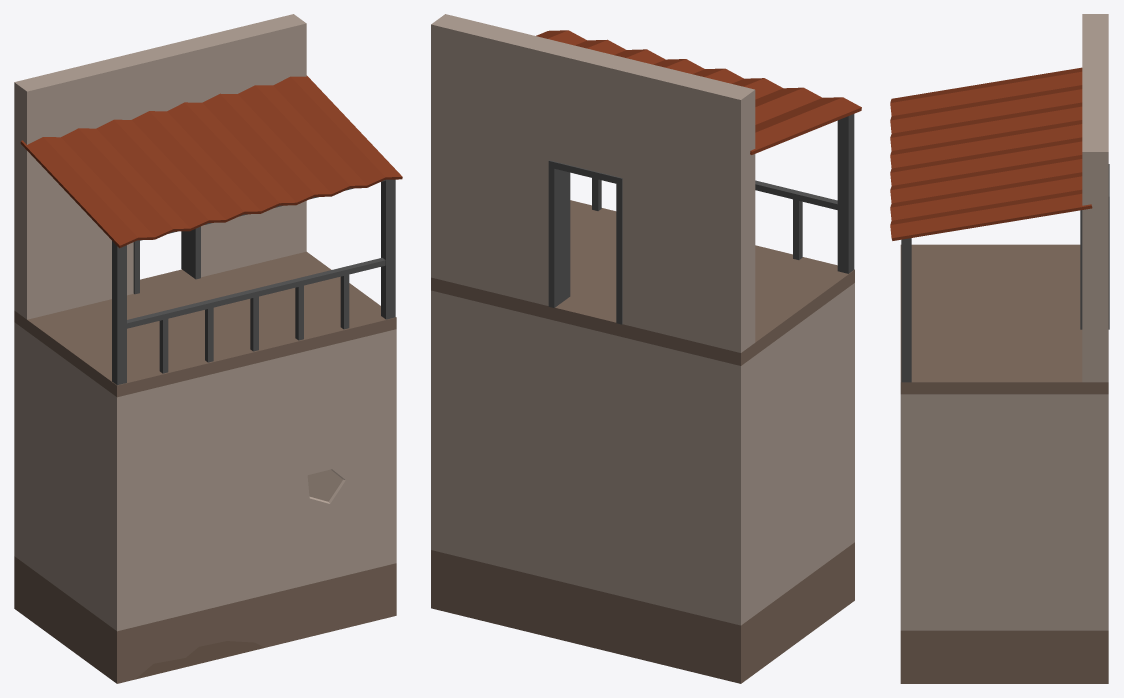
File: Wall2_10.fbx
The picture shows the model from 3 angles, left to right: view 1: azimuth 30°, elevation 25°; view 2: azimuth 150°, elevation 25°; view 3: azimuth 270°, elevation 25°; orthographic projection. The views are drawn at different scales.
Parts seen in each view (by area): view 1: Wall2_10; view 2: Wall2_10; view 3: Wall2_10.
Boxes of the visible parts, left/top/right/bottom form: Wall2_10: left=14, top=14, right=402, bottom=683; Wall2_10: left=431, top=14, right=861, bottom=683; Wall2_10: left=890, top=14, right=1109, bottom=683.
Bounding box in the file's own units: 506 × 900 × 337.
